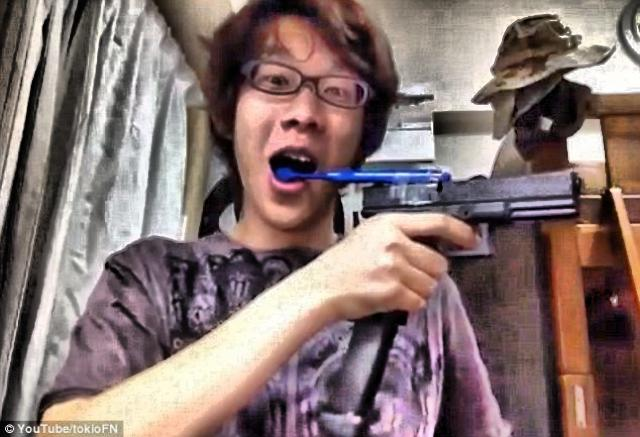pistol: (352, 162, 586, 326)
